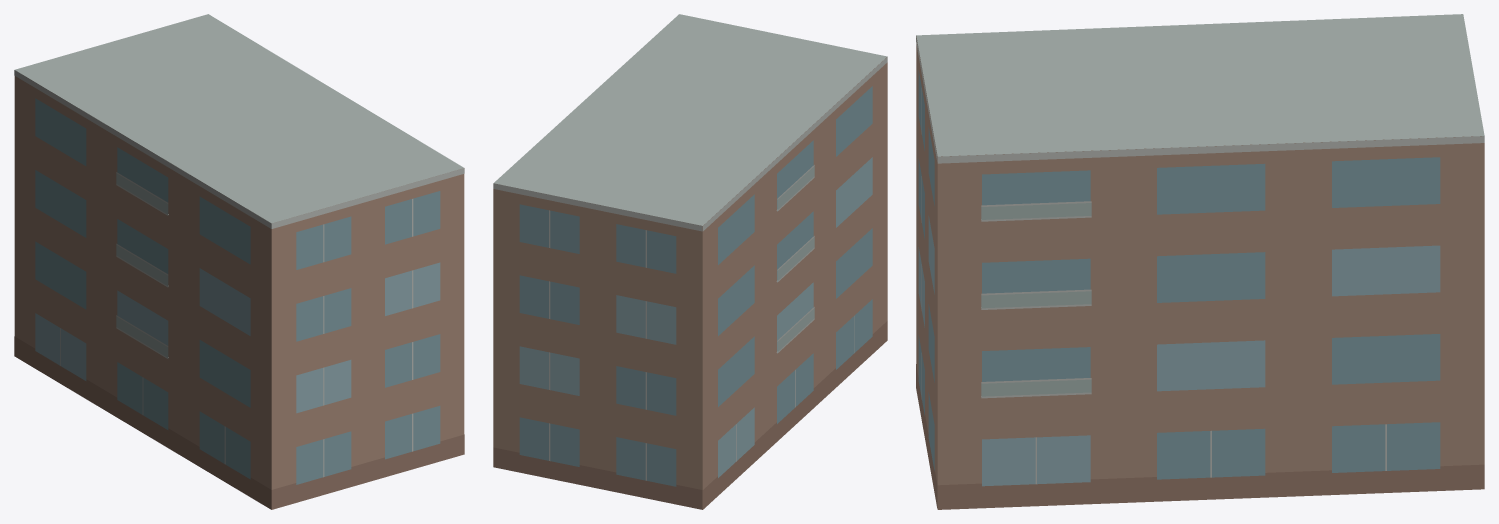
The model's file is survey-upis-32701296.glb.
3 views of the same model, side by side, from view 1: azimuth 30°, elevation 25°; view 2: azimuth 150°, elevation 25°; view 3: azimuth 270°, elevation 25° (orthographic). The views are drawn at different scales.
Visible parts, largest first — view 1: survey-upis-32701296.tmp; view 2: survey-upis-32701296.tmp; view 3: survey-upis-32701296.tmp.
Part boxes in pixels (bbox=[...]): survey-upis-32701296.tmp: bbox=[14, 14, 464, 509]; survey-upis-32701296.tmp: bbox=[493, 14, 887, 509]; survey-upis-32701296.tmp: bbox=[916, 14, 1484, 509].
Bounding box in the file's own units: 10.57 × 12.2 × 17.8.
